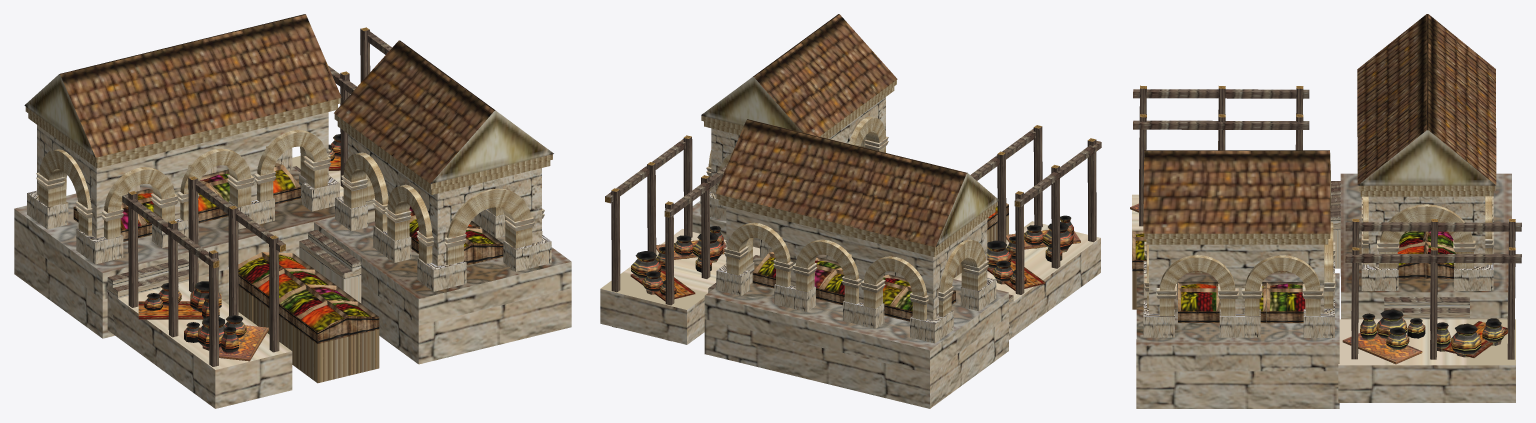
Rendered from market.dae.
3 views of the same model, side by side, from view 1: azimuth 30°, elevation 25°; view 2: azimuth 150°, elevation 25°; view 3: azimuth 270°, elevation 25° (orthographic). The views are drawn at different scales.
Visible parts, largest first — view 1: market; view 2: market; view 3: market.
Boxes of the visible parts, left/top/right/bottom form: market: left=14, top=14, right=571, bottom=408; market: left=600, top=14, right=1101, bottom=408; market: left=1130, top=14, right=1521, bottom=408.
Size of the model in its own units: 25.5 by 24.18 by 15.25.
